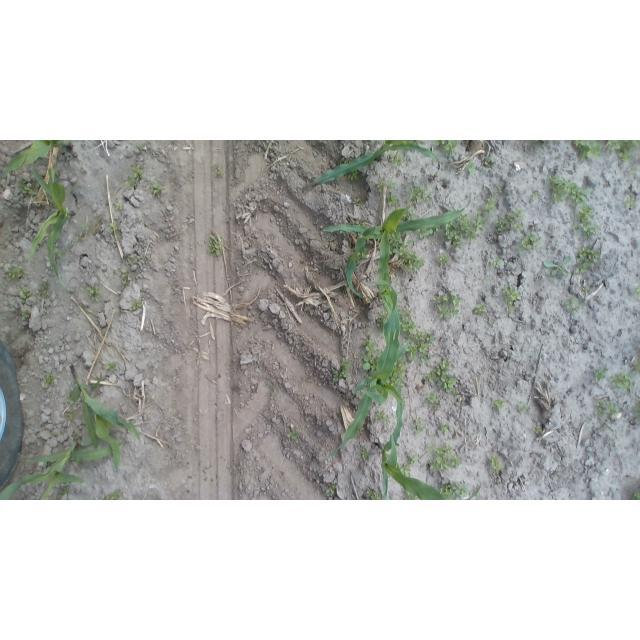Maize: (325, 197, 472, 297), (324, 279, 406, 458), (379, 388, 481, 497), (0, 434, 128, 500), (66, 363, 142, 472), (311, 140, 438, 189), (29, 165, 75, 287), (1, 141, 71, 180)
Weeds: (550, 174, 590, 204), (423, 360, 457, 393), (407, 328, 435, 361), (433, 290, 461, 319), (496, 209, 524, 234), (578, 206, 598, 240), (608, 141, 639, 162), (577, 246, 601, 271), (460, 218, 485, 241), (401, 251, 425, 274), (574, 141, 602, 160), (544, 256, 570, 276), (447, 219, 466, 246), (596, 399, 620, 420), (503, 285, 520, 313), (389, 234, 412, 254), (611, 372, 634, 392), (334, 358, 351, 382), (433, 445, 451, 467), (19, 177, 38, 197), (441, 483, 468, 497), (438, 140, 458, 158), (208, 234, 224, 256), (402, 311, 417, 334), (561, 294, 580, 312), (73, 225, 91, 244), (521, 233, 540, 251), (389, 361, 404, 383), (408, 186, 428, 202), (373, 409, 391, 426), (57, 143, 72, 161), (8, 265, 25, 280), (375, 309, 387, 329), (592, 367, 608, 382), (87, 284, 100, 301), (364, 487, 382, 499), (122, 176, 140, 188), (414, 417, 426, 435), (149, 182, 163, 197), (363, 356, 378, 370), (419, 229, 438, 240), (493, 398, 508, 411), (106, 489, 123, 500), (427, 394, 440, 408), (54, 487, 68, 500), (386, 193, 399, 207), (473, 303, 488, 315), (488, 455, 500, 470), (39, 281, 50, 297), (361, 446, 372, 462), (21, 287, 31, 304), (377, 180, 394, 190), (105, 360, 118, 373), (44, 374, 55, 389), (266, 380, 275, 398), (363, 340, 375, 353), (516, 402, 528, 415), (437, 254, 449, 267), (486, 197, 497, 211), (393, 154, 403, 168), (120, 269, 128, 286), (108, 222, 119, 234), (356, 249, 368, 260), (133, 166, 144, 177), (289, 429, 300, 440), (440, 422, 450, 434), (451, 455, 461, 467), (134, 144, 146, 154), (353, 217, 366, 226), (215, 164, 223, 178), (408, 454, 418, 465), (626, 196, 635, 208), (632, 403, 638, 421), (468, 161, 476, 174), (533, 424, 543, 434), (491, 257, 501, 267), (132, 300, 142, 310), (125, 255, 135, 265), (485, 155, 494, 166), (56, 248, 65, 259), (350, 171, 359, 181), (327, 485, 336, 495), (114, 202, 123, 211), (66, 411, 75, 420), (630, 163, 638, 173), (300, 375, 311, 382), (68, 395, 75, 406), (532, 190, 540, 199), (22, 311, 31, 319), (632, 287, 638, 297), (633, 361, 638, 373), (140, 254, 147, 262), (352, 198, 360, 205), (632, 491, 638, 499), (482, 275, 490, 281), (496, 186, 502, 194), (475, 211, 483, 216), (583, 285, 589, 291), (135, 217, 140, 223), (538, 141, 547, 144)
